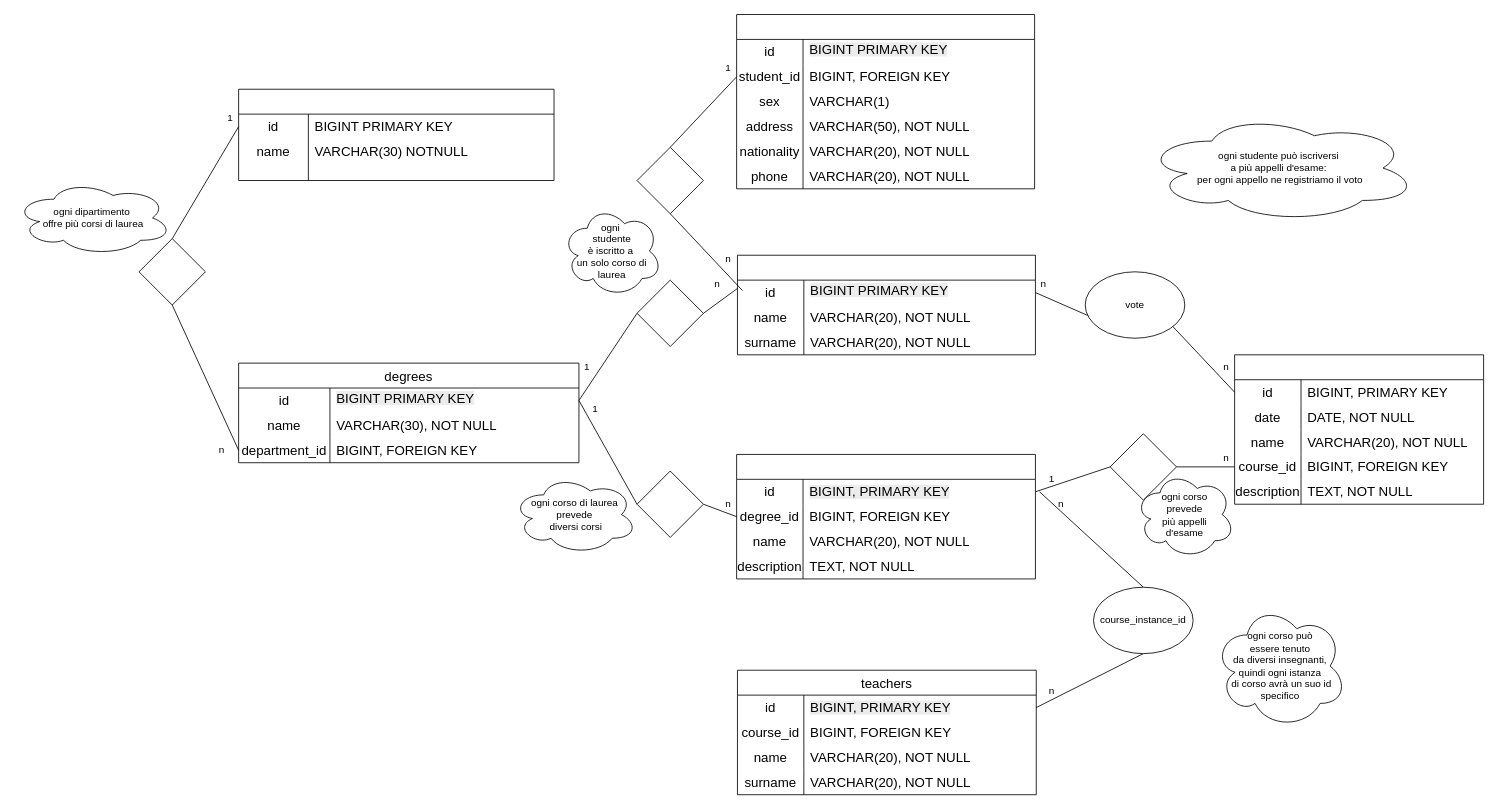
This 1498x809 diagram has some shape labels left out. The box of each missing label's shape, as (x1, y1, x2, y2) in pixels:
courses: (736, 454, 1035, 579)
Departments: (238, 88, 554, 181)
exams: (1234, 354, 1484, 504)
student_details: (736, 14, 1035, 189)
students: (737, 254, 1035, 355)
